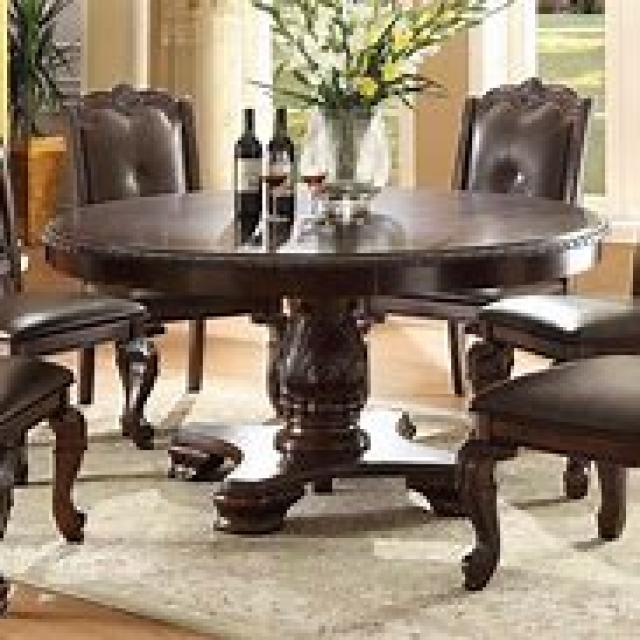chair: (360, 74, 591, 394)
table: (38, 180, 612, 534)
